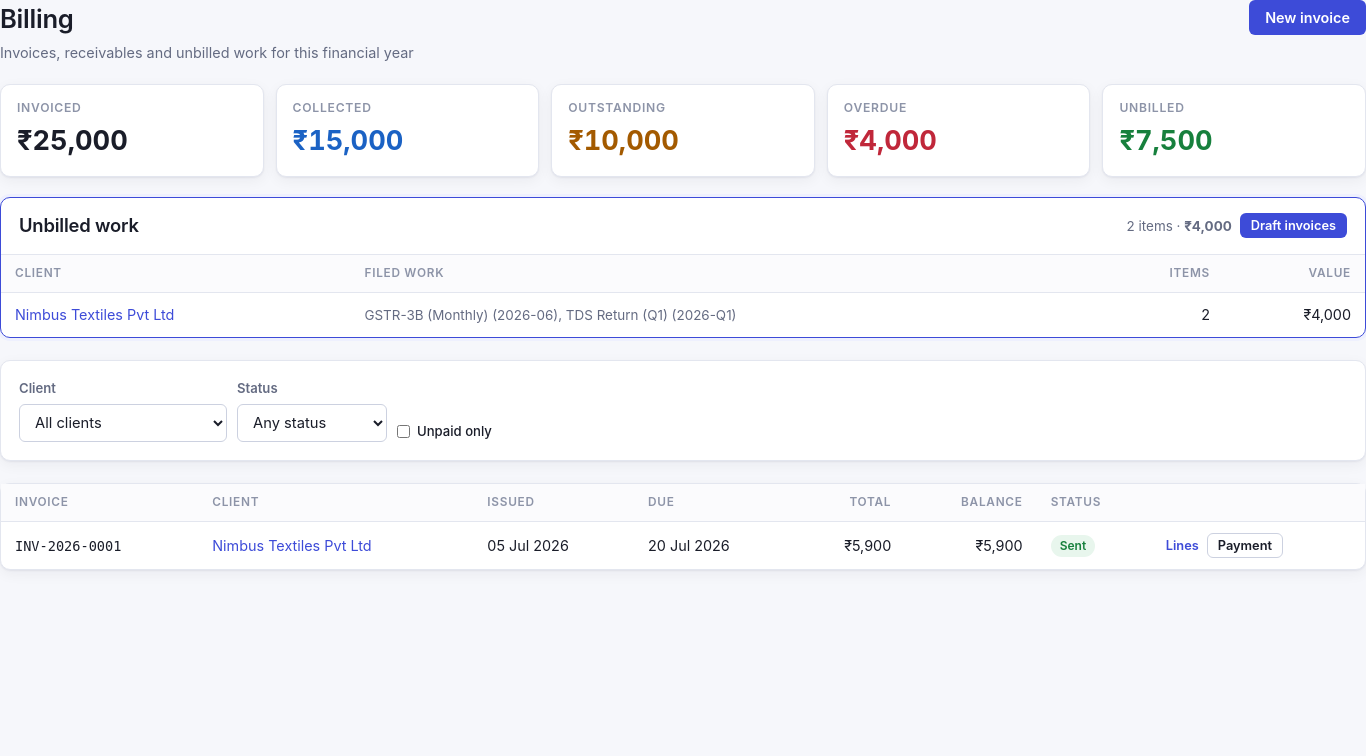
Test: Billing — invoice lines › closes the lines again without re-fetching them
Click the button "Lines".
click(1182, 546)  # box [1166,538,1199,554]
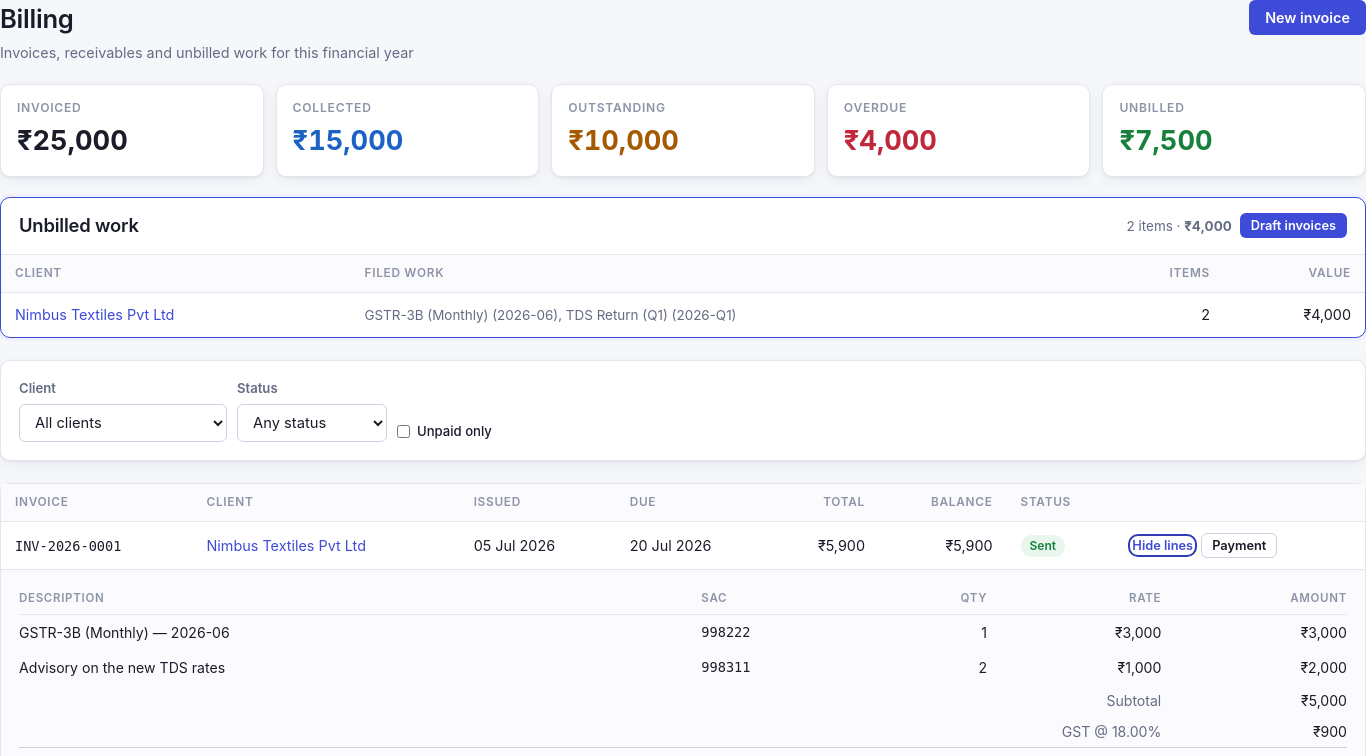
Result: the text "Advisory on the new TDS rates" is shown at [19,650,701,685]
Click the button "Hide lines".
click(1163, 546)  # box [1132,538,1193,554]
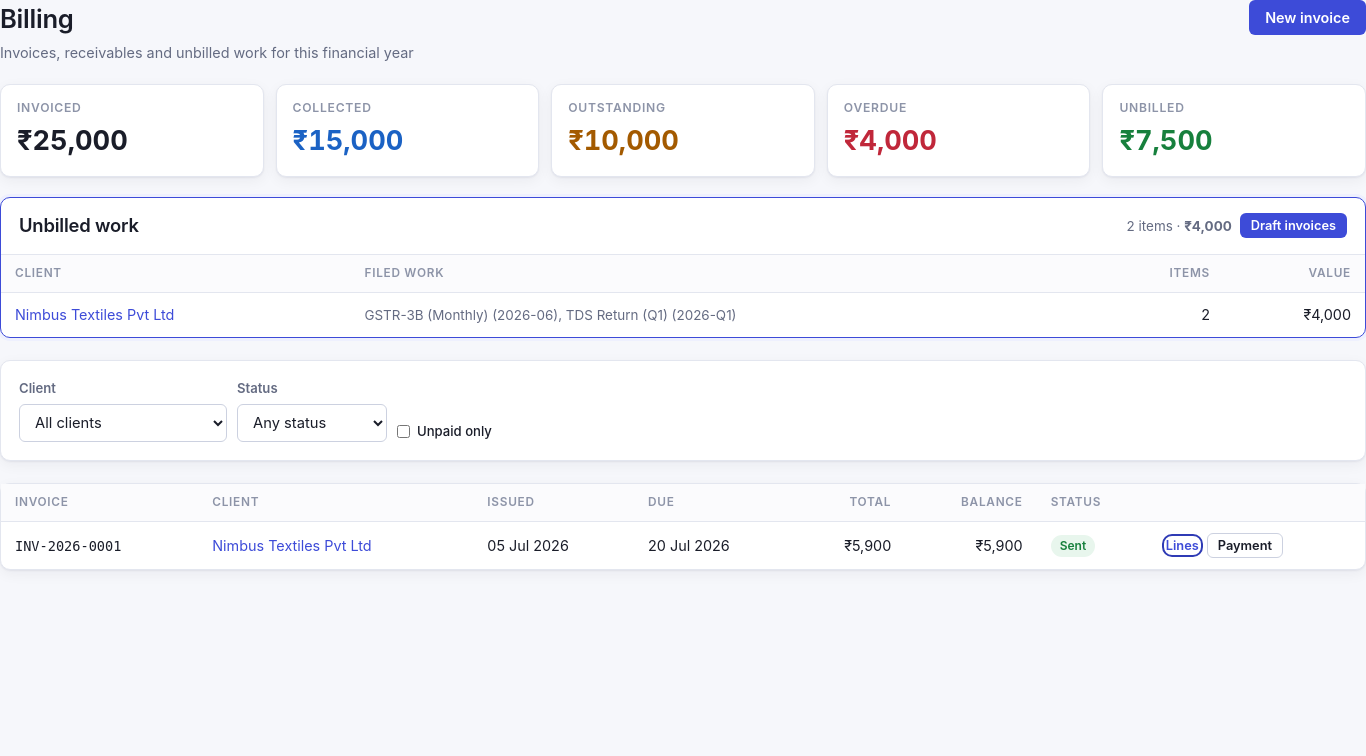
Result: the text "Advisory on the new TDS rates" is gone
